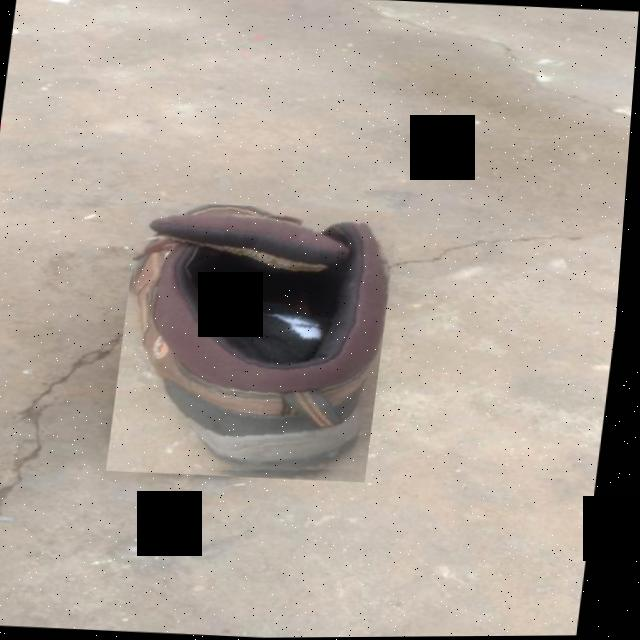shoe: (112, 200, 403, 485)
